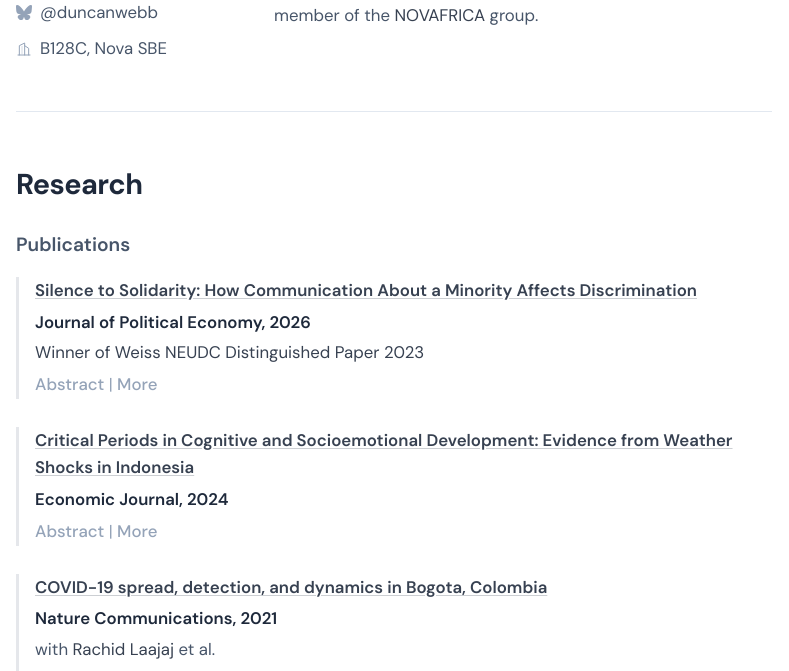
Test case: Paper expandable links › closes More when Abstract is opened on the same paper
(page scrolled)
Click the button "More" below "Journal of Political Economy, 2026" at [137, 384], box [117,374,157,396]
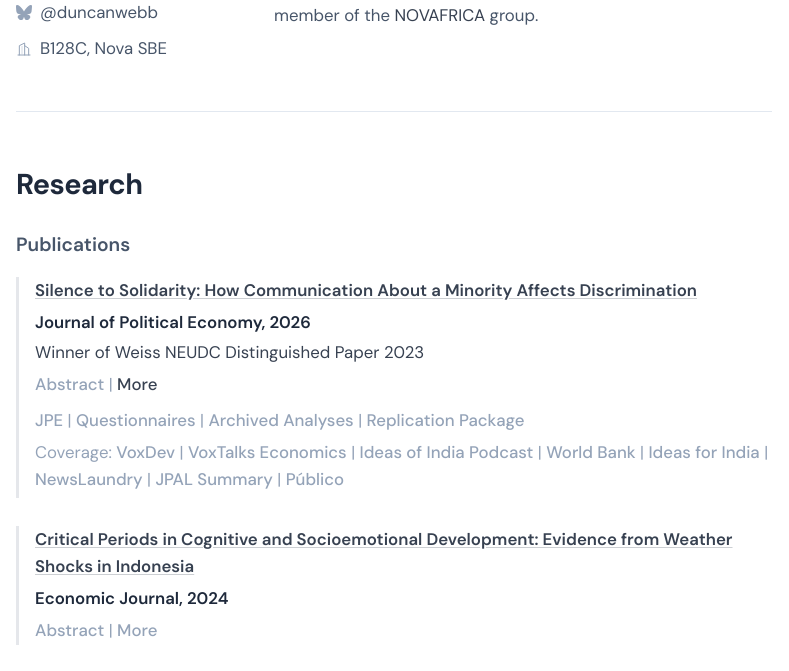
expect the button "More" below "Journal of Political Economy, 2026" is expanded: met, box [117,374,157,396]
expect the link "Questionnaires" is shown: met, box [76,409,196,431]
Click the button "Abstract" below "Journal of Political Economy, 2026" at [70, 384], box [35,374,104,396]
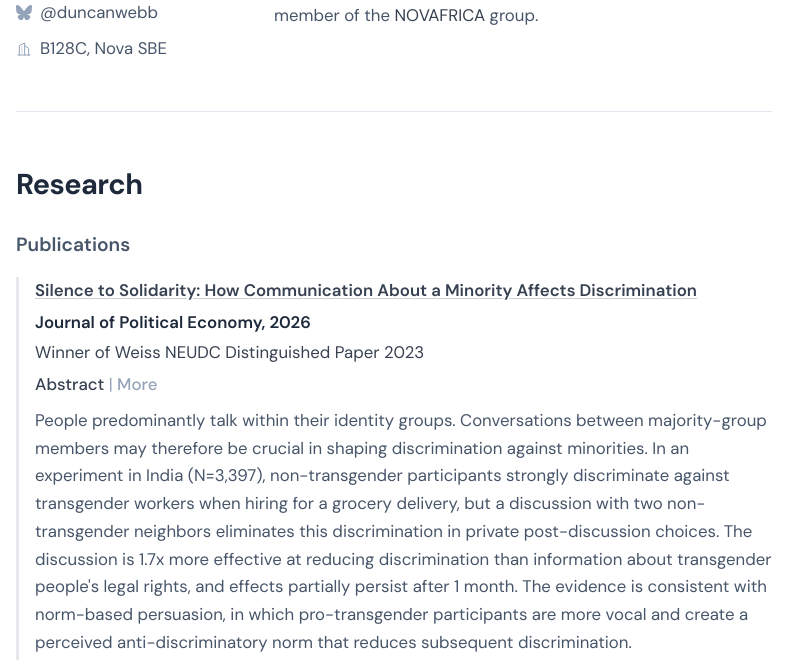
expect the link "questionnaires" is not shown: met
expect the button "Abstract" is expanded: met, box [35,374,104,396]
expect the button "More" is collapsed: met, box [117,374,157,396]
